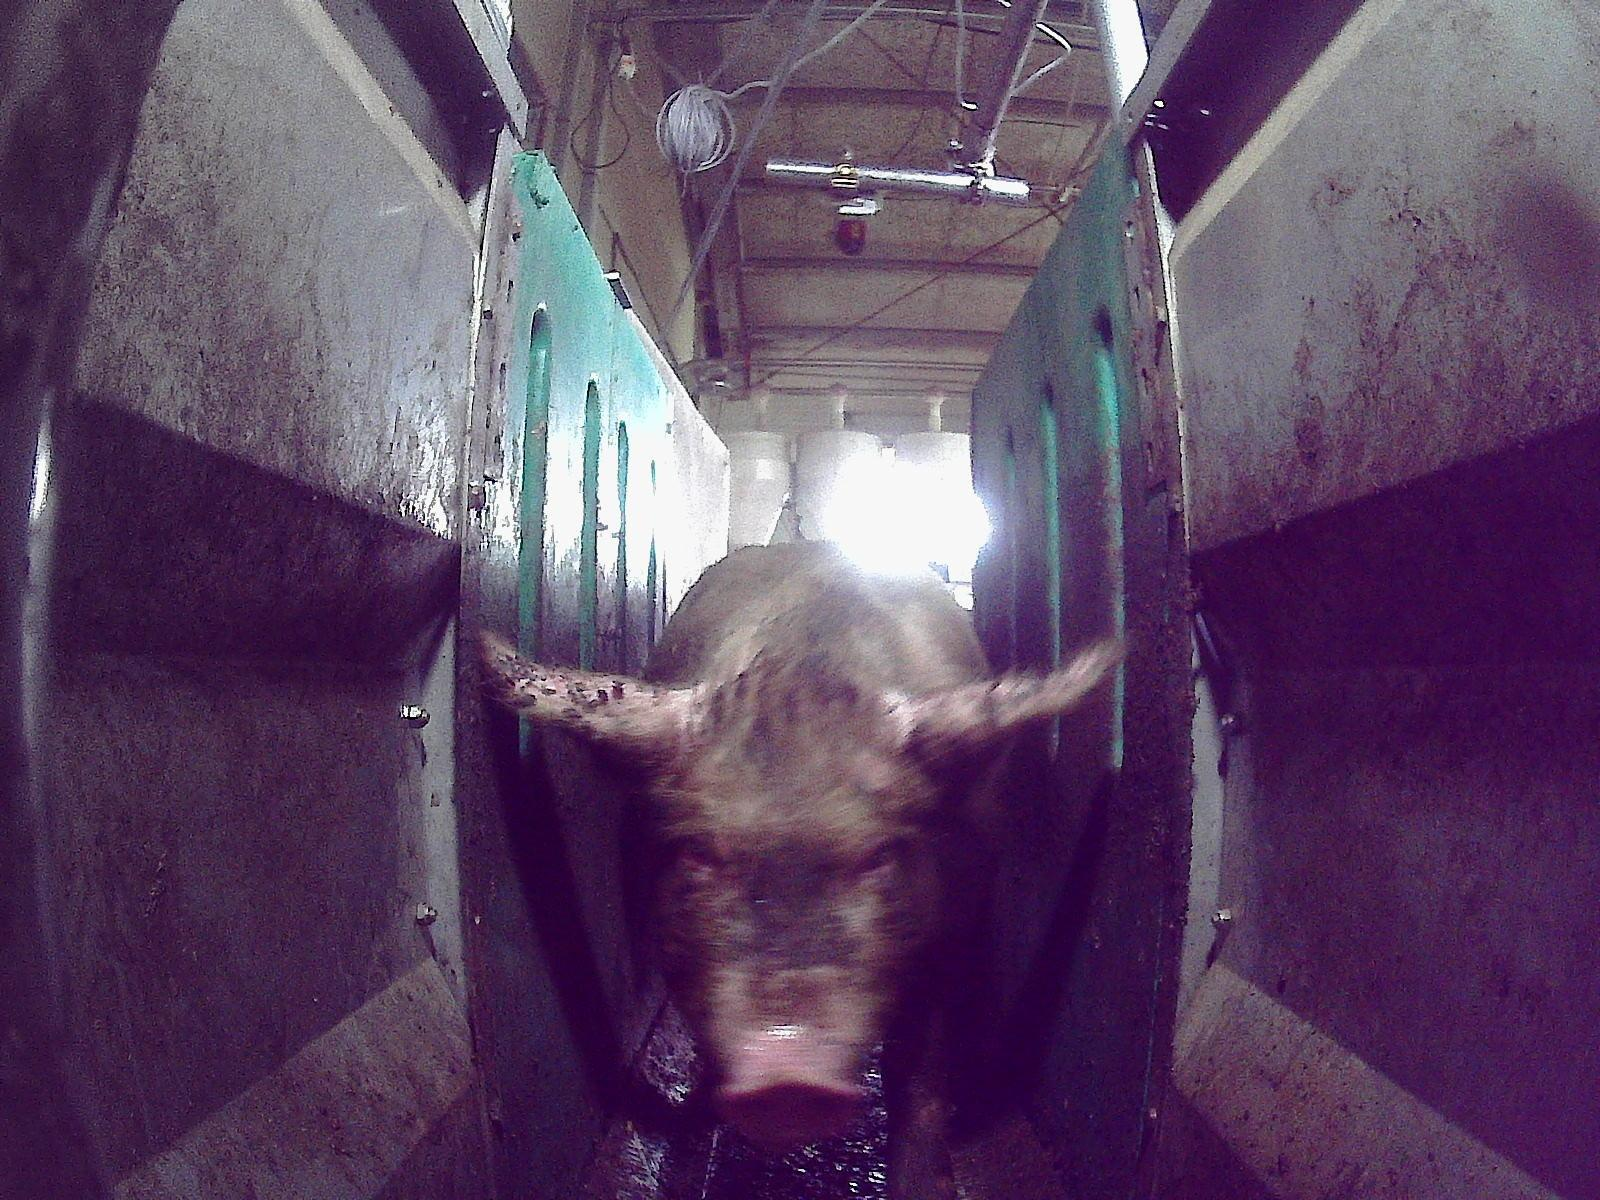Face: (641, 654, 943, 1150)
